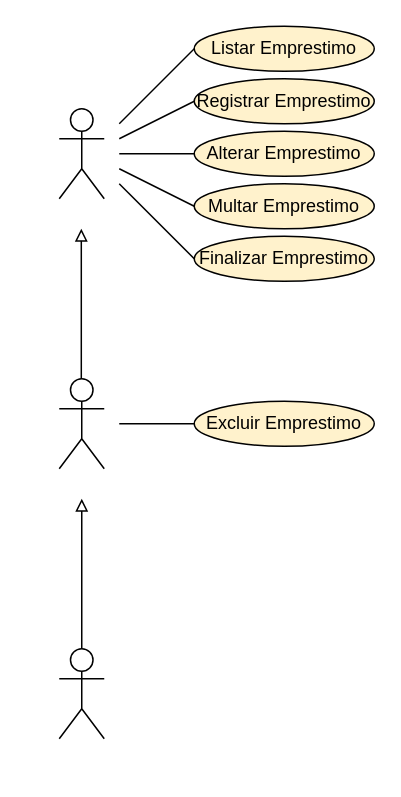
Image size: 401x797. Some labels were removed from this diagram. The centre of each missing label's shape, as x and y in pixels:
Administrador: (x=81, y=693)
Bibliotecario: (x=81, y=423)
Funcionario: (x=81, y=153)
